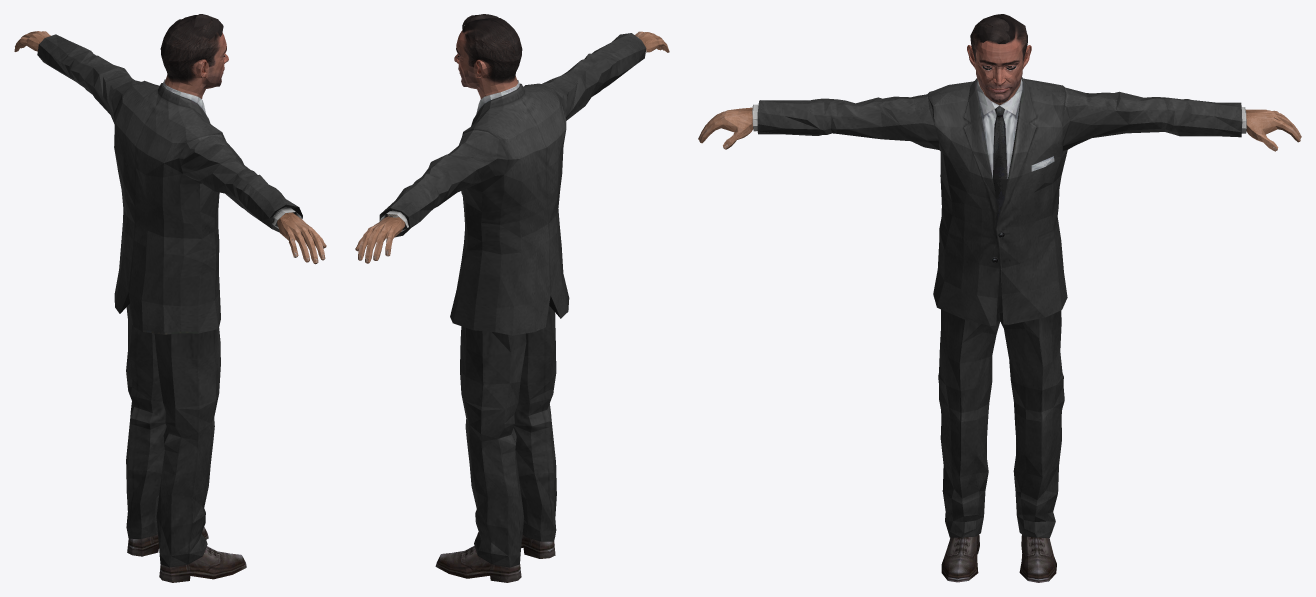
The model's file is Sean connery grey suit.obj.
The picture shows the model from 3 angles, left to right: view 1: azimuth 30°, elevation 25°; view 2: azimuth 150°, elevation 25°; view 3: azimuth 270°, elevation 25°; orthographic projection. The views are drawn at different scales.
Parts seen in each view (by area): view 1: Object.007_Mesh.007, Object.003_Mesh.003, Object.005_Mesh.005; view 2: Object.007_Mesh.007, Object.003_Mesh.003, Object.005_Mesh.005; view 3: Object.007_Mesh.007, Object.003_Mesh.003, Object.005_Mesh.005, Object.006_Mesh.006.
Part boxes in pixels (x1=…): Object.007_Mesh.007: x1=37, y1=34, x2=302, y2=582; Object.003_Mesh.003: x1=160, y1=15, x2=228, y2=98; Object.005_Mesh.005: x1=14, y1=31, x2=326, y2=264; Object.007_Mesh.007: x1=379, y1=33, x2=646, y2=582; Object.003_Mesh.003: x1=454, y1=18, x2=522, y2=99; Object.005_Mesh.005: x1=355, y1=31, x2=669, y2=263; Object.007_Mesh.007: x1=757, y1=77, x2=1242, y2=582; Object.003_Mesh.003: x1=967, y1=14, x2=1031, y2=105; Object.005_Mesh.005: x1=698, y1=104, x2=1301, y2=151; Object.006_Mesh.006: x1=992, y1=106, x2=1054, y2=262.
Bounding box in the file's own units: 0.3653 × 1.86 × 1.85.
10 materials, 10 textured.
